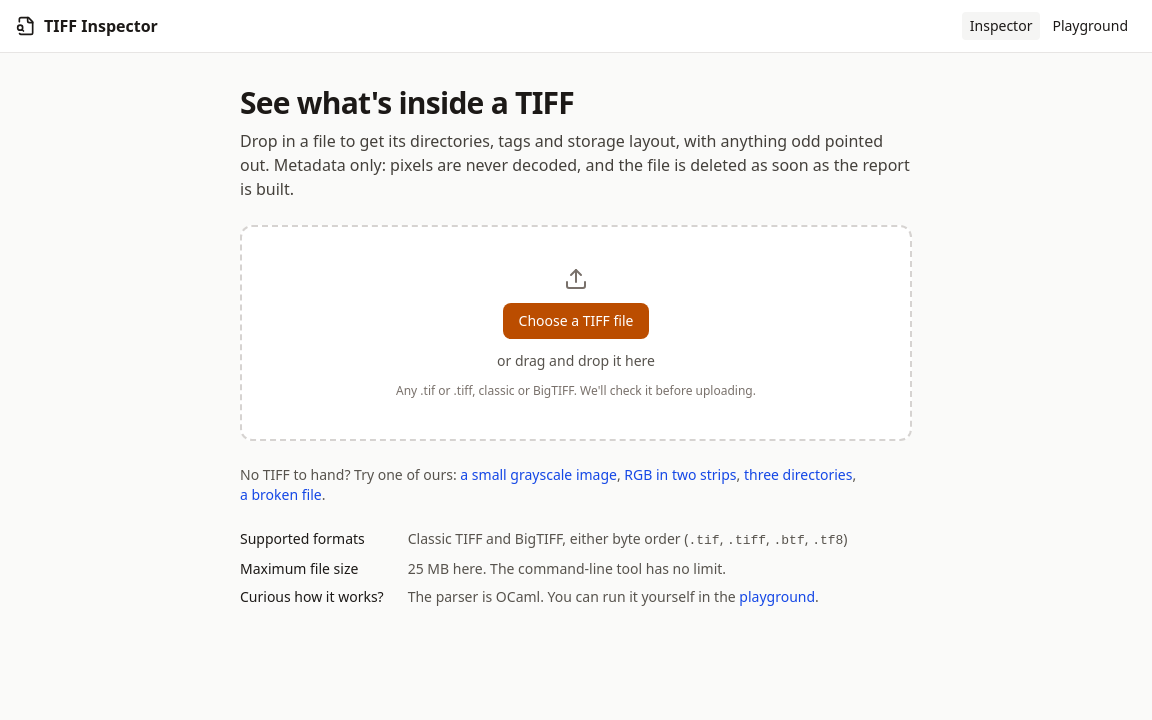
Test: App inspection flow › explains when a sample cannot be fetched
The image size is (1152, 720).
Click the button "a broken file" at (281, 495), box [240,485,322,505]
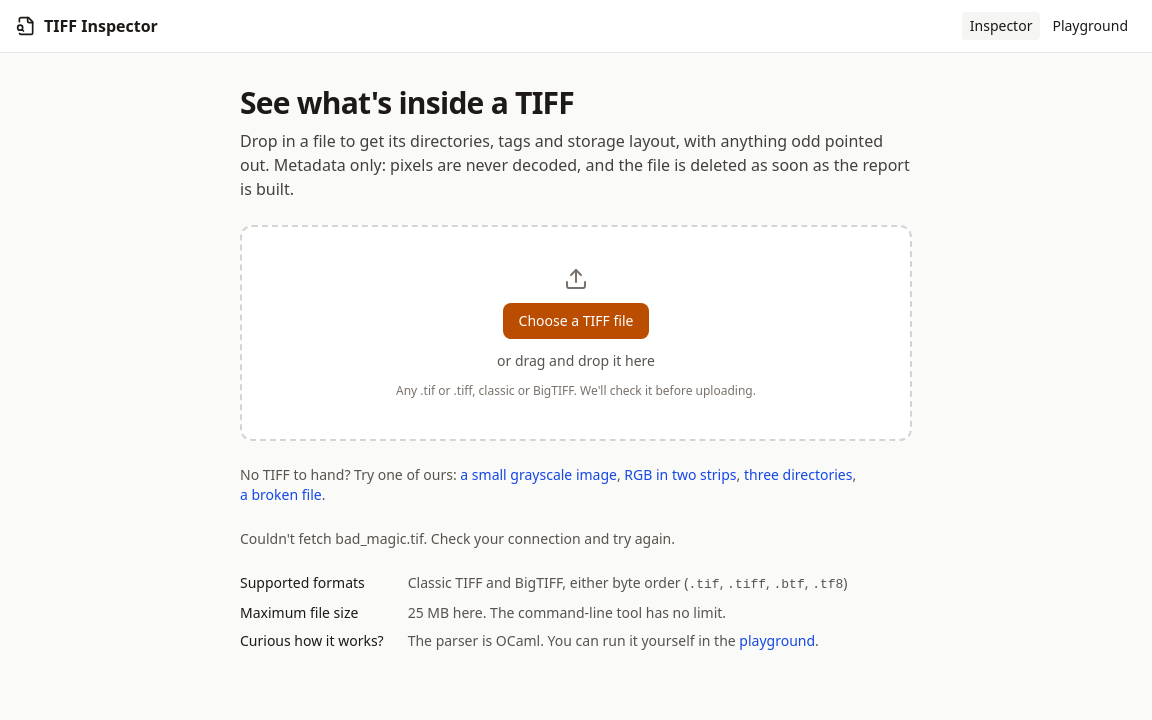
Expected: the message shows "Couldn't fetch bad_magic.tif", [240,529,675,548]
